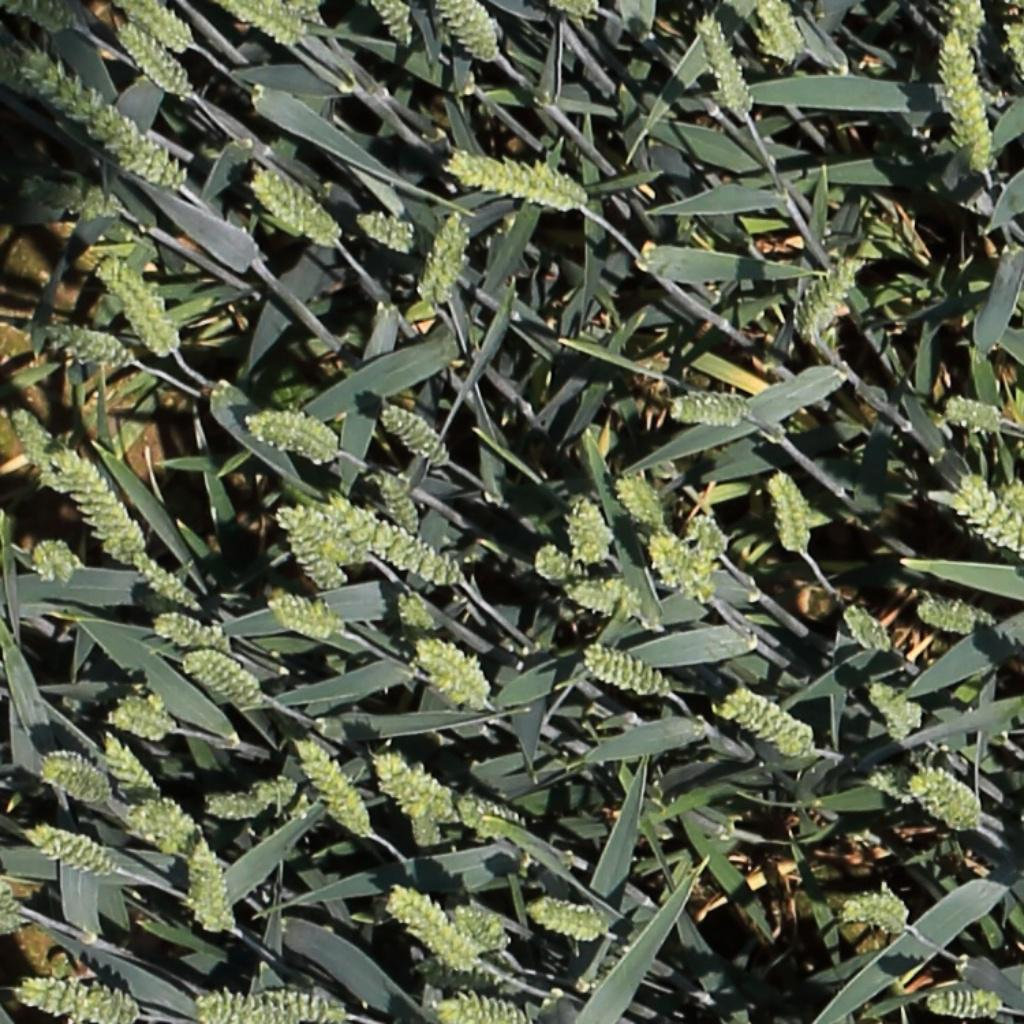0-0: (105, 735, 223, 857), (323, 496, 456, 584), (58, 447, 149, 568), (92, 249, 181, 359), (930, 28, 997, 171), (378, 888, 486, 975), (444, 148, 590, 212), (88, 107, 189, 194), (289, 737, 370, 842), (688, 9, 755, 125), (108, 23, 197, 107), (11, 968, 148, 1022), (247, 170, 342, 246), (405, 638, 497, 709), (720, 693, 818, 758), (16, 49, 106, 119), (371, 754, 462, 823), (795, 249, 864, 338), (958, 479, 1024, 569), (274, 503, 367, 565), (244, 411, 345, 466), (634, 532, 709, 604), (415, 214, 470, 309), (38, 744, 117, 810), (126, 548, 206, 613), (27, 828, 121, 883), (45, 323, 138, 373), (581, 647, 671, 698), (21, 175, 130, 217), (378, 402, 449, 466), (662, 382, 753, 431), (765, 468, 814, 558), (906, 768, 974, 831), (192, 983, 295, 1024), (255, 980, 354, 1022), (192, 856, 244, 935), (15, 403, 64, 485), (436, 0, 498, 64), (286, 531, 349, 592), (180, 652, 258, 701), (920, 976, 1008, 1019), (106, 732, 163, 797), (527, 899, 615, 941), (835, 886, 913, 933), (567, 492, 617, 565), (869, 679, 928, 740), (118, 1, 191, 50), (372, 468, 420, 542), (939, 394, 1014, 441), (535, 544, 600, 598), (461, 792, 527, 845), (264, 599, 345, 641), (221, 0, 299, 43), (408, 763, 445, 849), (110, 693, 179, 739), (839, 602, 894, 656), (454, 901, 513, 951), (916, 598, 993, 636), (572, 577, 645, 617), (350, 211, 413, 255), (611, 471, 663, 524), (757, 1, 806, 57), (148, 617, 226, 652), (434, 994, 524, 1022), (749, 8, 794, 62), (368, 0, 413, 50), (687, 513, 729, 565), (864, 761, 912, 804), (203, 790, 265, 823), (950, 0, 984, 54), (32, 535, 69, 583), (393, 592, 435, 633), (10, 1, 72, 28), (1, 887, 32, 940), (1004, 16, 1024, 98), (257, 774, 301, 810)
